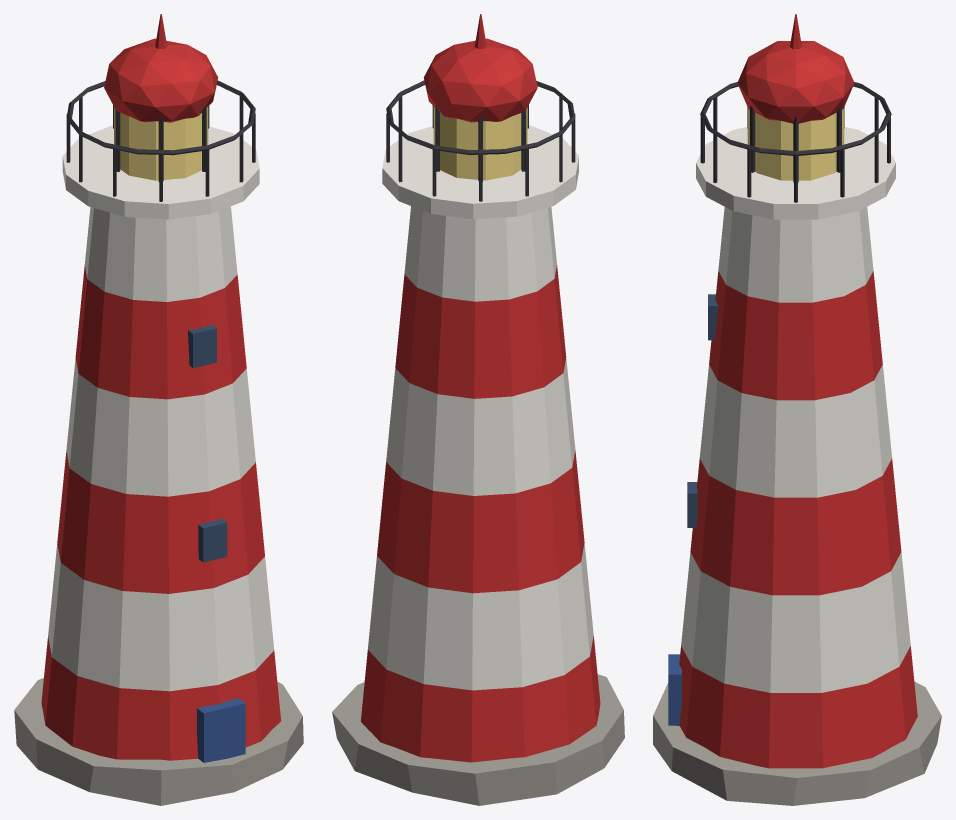
The model's file is Lighthouse.fbx.
3 views of the same model, side by side, from view 1: azimuth 30°, elevation 25°; view 2: azimuth 150°, elevation 25°; view 3: azimuth 270°, elevation 25° (orthographic).
Parts seen in each view (by area): view 1: White, Stripes, Base, Dome, Lamp, Rail, Door, Windows, LampFrame; view 2: White, Stripes, Base, Dome, Lamp, Rail, LampFrame; view 3: White, Stripes, Base, Dome, Lamp, Rail, Door, LampFrame, Windows.
Boxes of the visible parts, bbox=[...] form: White: bbox=[48, 125, 274, 691]; Stripes: bbox=[41, 265, 280, 760]; Base: bbox=[14, 678, 303, 805]; Dome: bbox=[104, 14, 218, 122]; Lamp: bbox=[114, 106, 208, 180]; Rail: bbox=[66, 80, 255, 201]; Door: bbox=[197, 698, 245, 762]; Windows: bbox=[188, 324, 227, 562]; LampFrame: bbox=[115, 105, 206, 181]; White: bbox=[368, 125, 593, 690]; Stripes: bbox=[360, 265, 600, 762]; Base: bbox=[332, 674, 624, 805]; Dome: bbox=[423, 14, 537, 122]; Lamp: bbox=[433, 106, 527, 180]; Rail: bbox=[386, 80, 575, 201]; LampFrame: bbox=[435, 105, 526, 181]; White: bbox=[681, 127, 910, 692]; Stripes: bbox=[679, 271, 917, 768]; Base: bbox=[653, 681, 941, 805]; Dome: bbox=[737, 14, 854, 123]; Lamp: bbox=[747, 107, 844, 180]; Rail: bbox=[700, 82, 891, 202]; Door: bbox=[668, 654, 681, 725]; LampFrame: bbox=[750, 105, 841, 182]; Windows: bbox=[687, 294, 718, 527].
Bounding box in the file's own units: 8.43 × 23.49 × 8.37.
